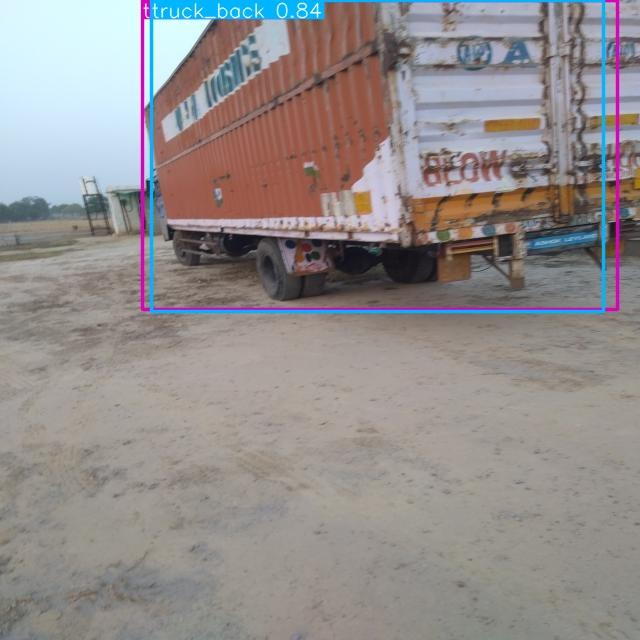truck_back: (140, 0, 640, 310)
